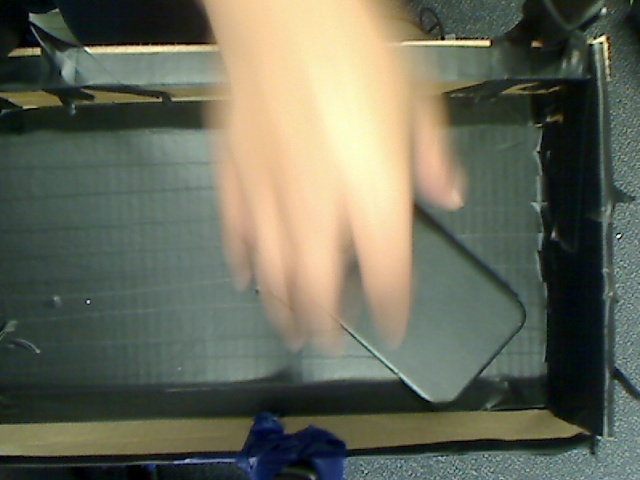phone: (284, 167, 528, 412)
